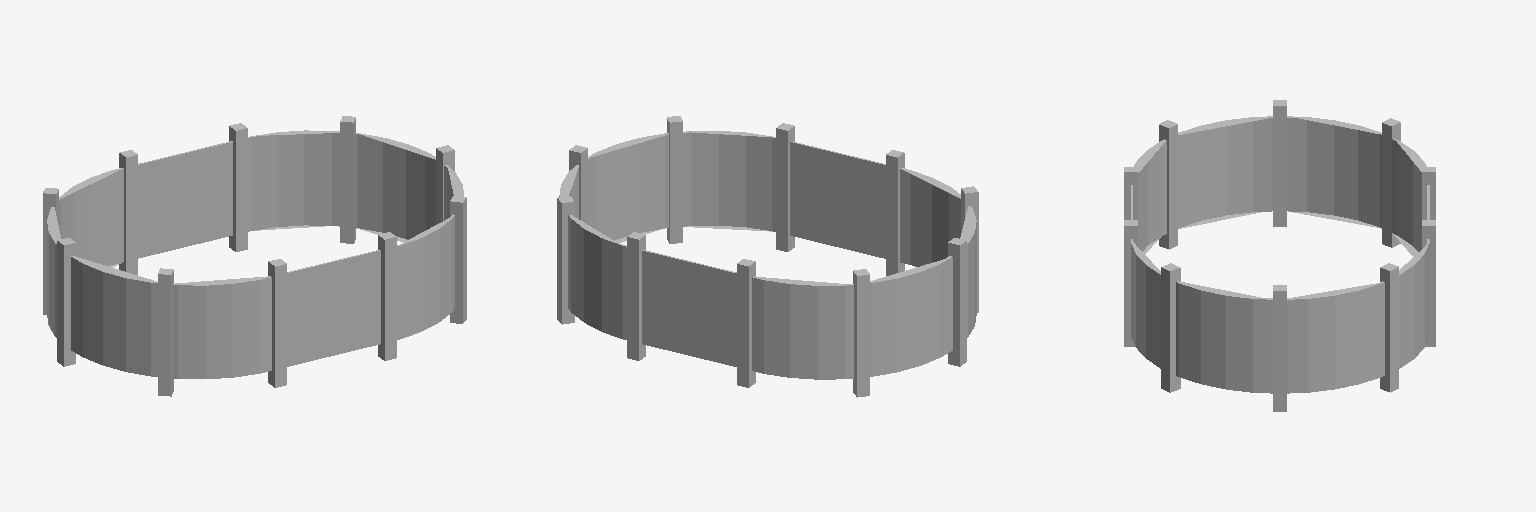
The model's file is ROOM_WALL_PILLAR.obj.
The picture shows the model from 3 angles: view 1: azimuth 30°, elevation 25°; view 2: azimuth 150°, elevation 25°; view 3: azimuth 270°, elevation 25°; orthographic projection.
Visible parts, largest first — view 1: Wall.003_Circle.003; view 2: Wall.003_Circle.003; view 3: Wall.003_Circle.003.
Boxes of the visible parts, x1=… form: Wall.003_Circle.003: x1=43, y1=116, x2=466, y2=396; Wall.003_Circle.003: x1=557, y1=116, x2=978, y2=397; Wall.003_Circle.003: x1=1124, y1=100, x2=1435, y2=411.
Bounding box in the file's own units: 20.77 × 6.17 × 14.34.